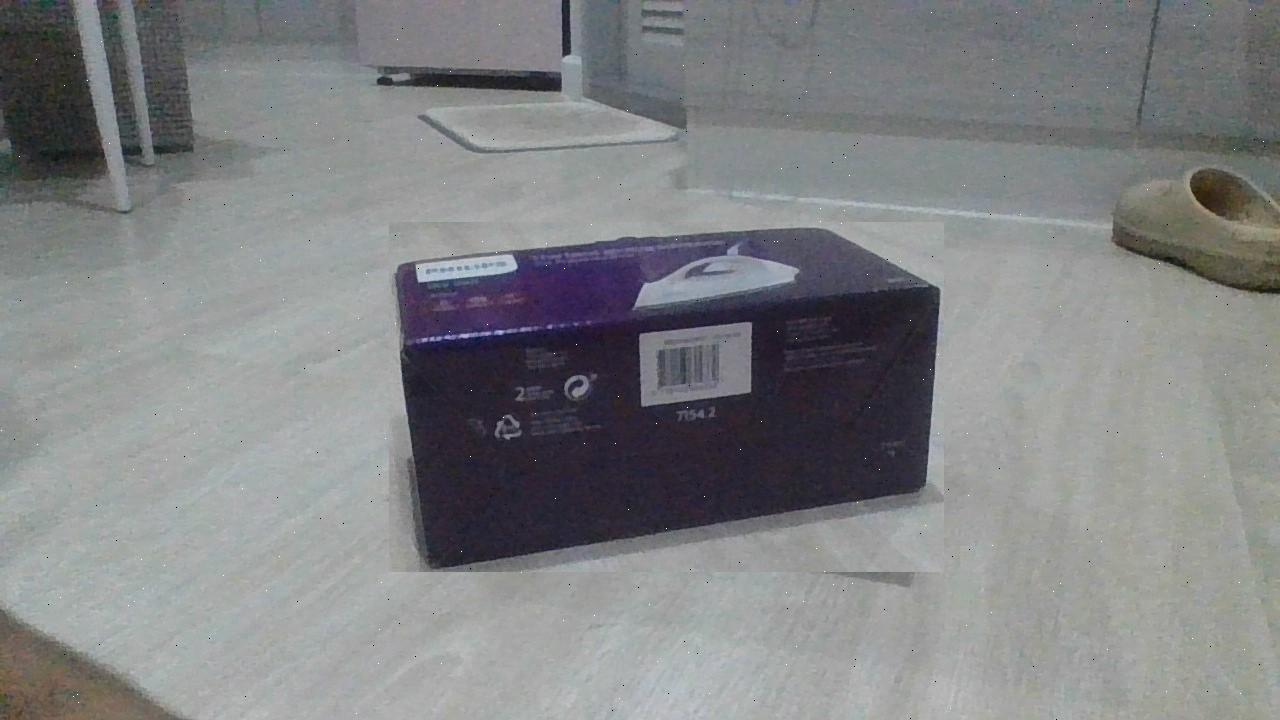IRON: (389, 222, 944, 572)
